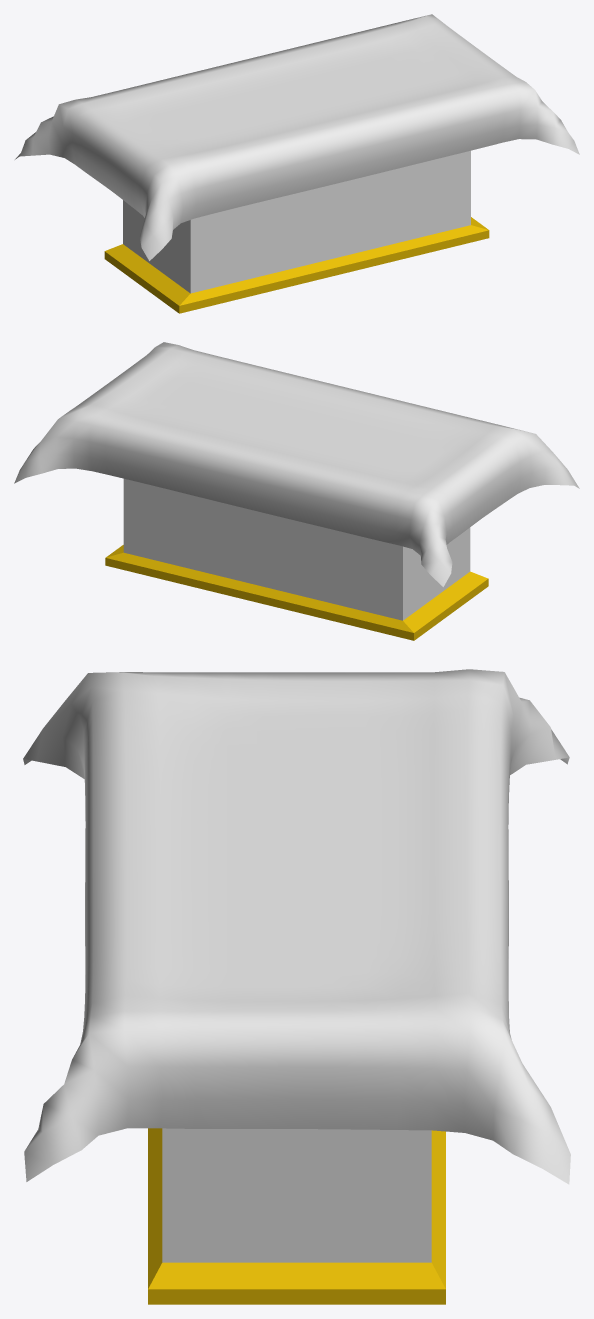
Rendered from altarIgreja.glb.
3 views of the same model, one above another, from view 1: azimuth 30°, elevation 25°; view 2: azimuth 150°, elevation 25°; view 3: azimuth 270°, elevation 25° (orthographic). The views are drawn at different scales.
Parts seen in each view (by area): view 1: pano, altar; view 2: pano, altar; view 3: pano, altar.
Boxes of the visible parts, x1,y1,x2,y2 form: pano: (15,14,579,260); altar: (104,150,489,313); pano: (14,342,579,586); altar: (105,478,488,640); pano: (23,669,570,1184); altar: (148,1128,445,1304).
Size of the model in its own units: 50.25 by 17.48 by 27.6.
